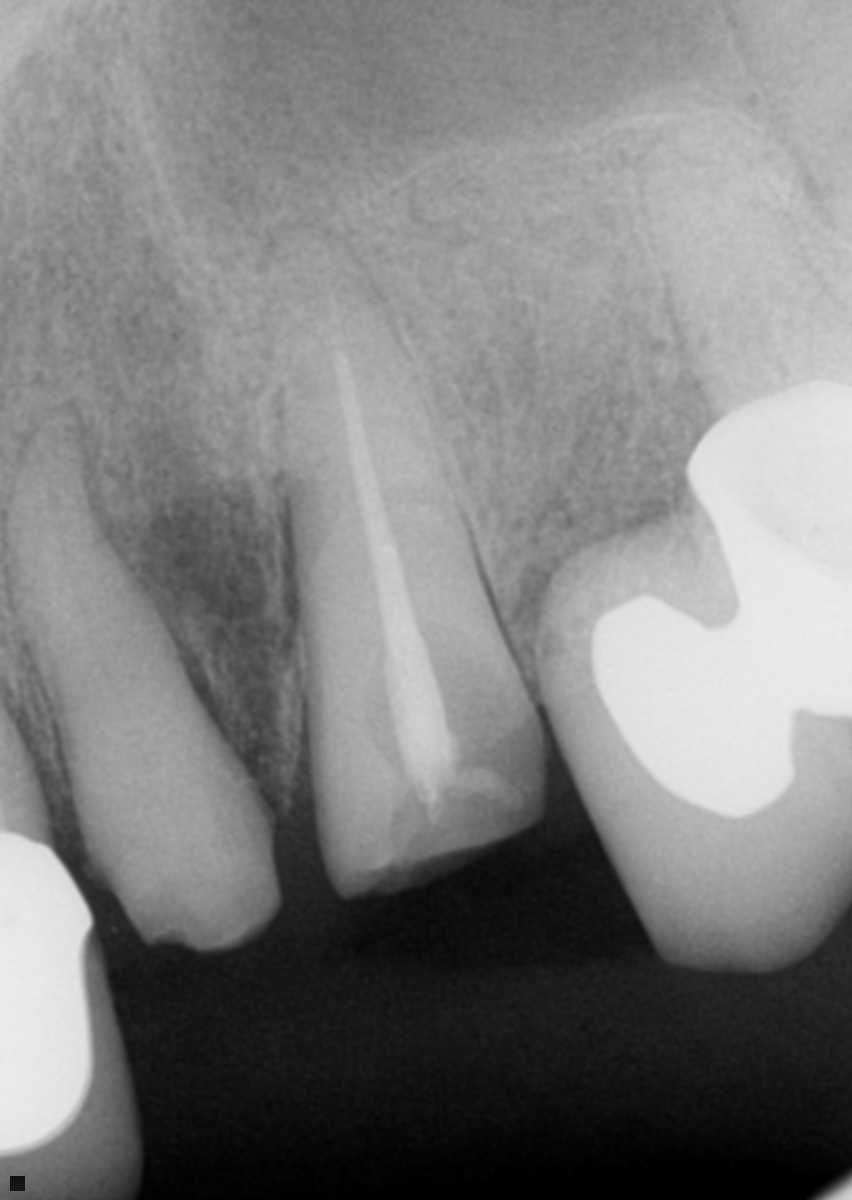Apical Lesion: (70, 404, 286, 781)
Main Root: (265, 224, 511, 754), (8, 406, 229, 812), (637, 103, 852, 418), (0, 636, 60, 853)
Root Canal Filling: (330, 339, 458, 804)
